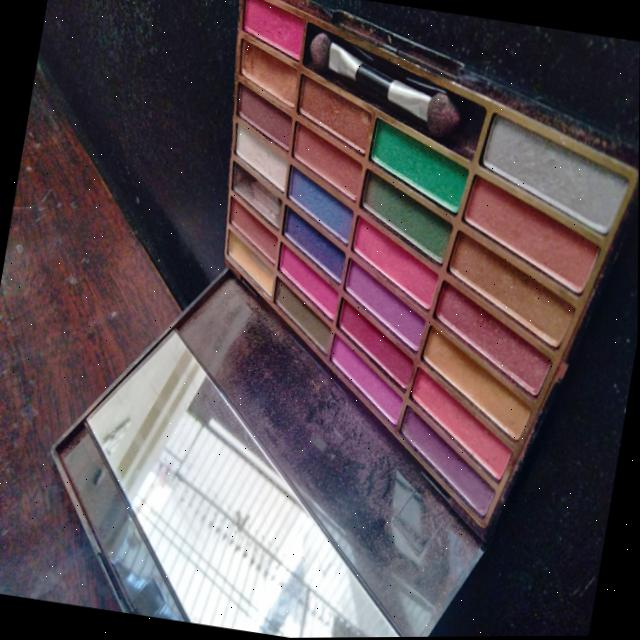eye shade: (162, 0, 640, 551)
